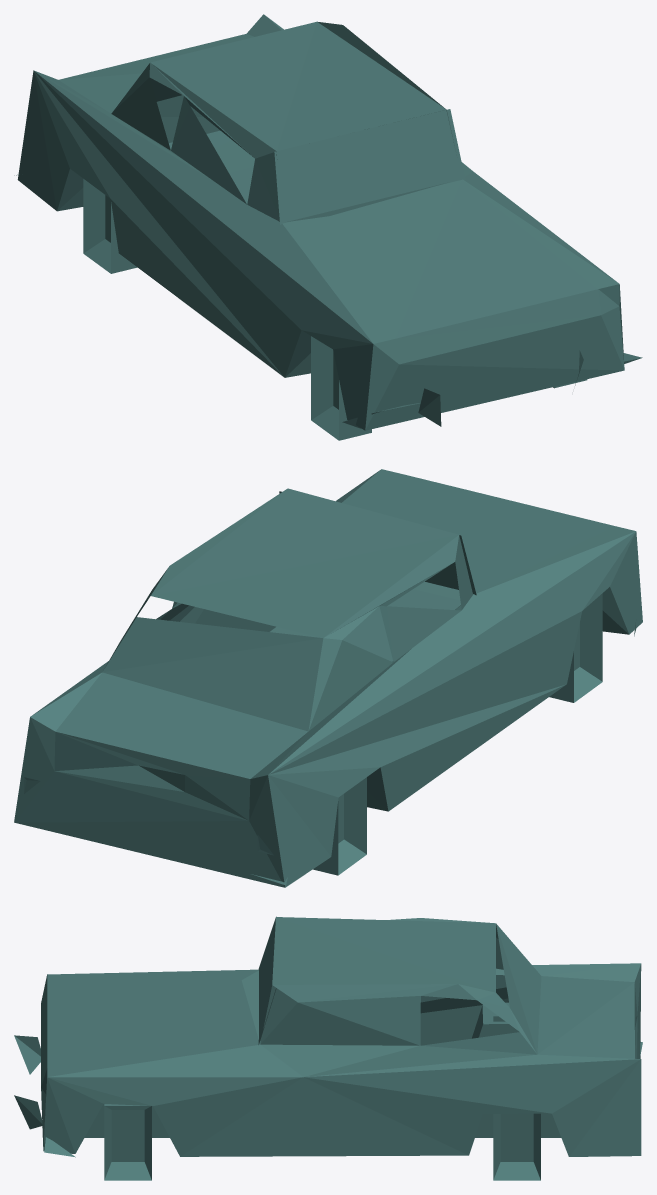
File: wreck-car.lod2.glb
3 views of the same model, one above another, from view 1: azimuth 30°, elevation 25°; view 2: azimuth 150°, elevation 25°; view 3: azimuth 270°, elevation 25° (orthographic). The views are drawn at different scales.
Parts seen in each view (by area): view 1: Object_2; view 2: Object_2; view 3: Object_2.
Boxes of the visible parts, bbox=[...] form: Object_2: bbox=[14, 14, 642, 440]; Object_2: bbox=[14, 469, 642, 887]; Object_2: bbox=[14, 916, 642, 1180].
Size of the model in its own units: 2.07 by 1.49 by 4.69.
